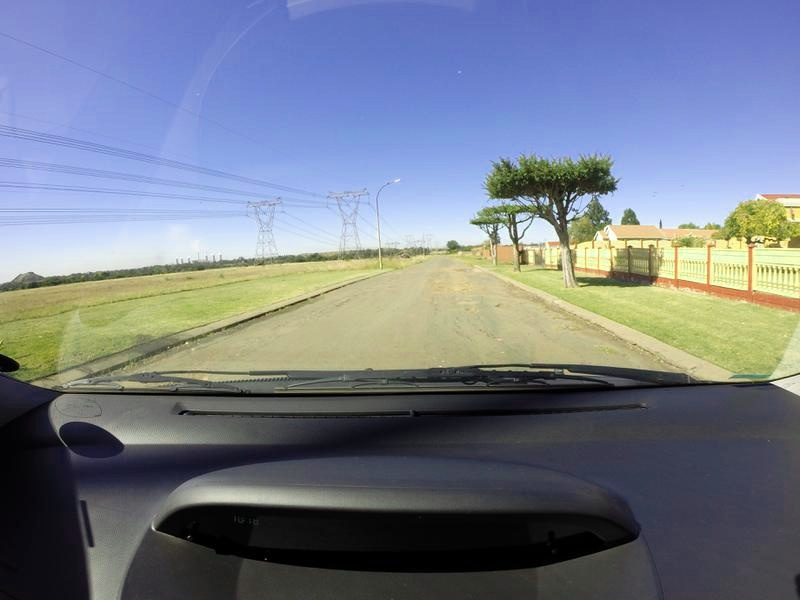pothole: (436, 282, 481, 291), (461, 300, 476, 310), (493, 303, 506, 307)
